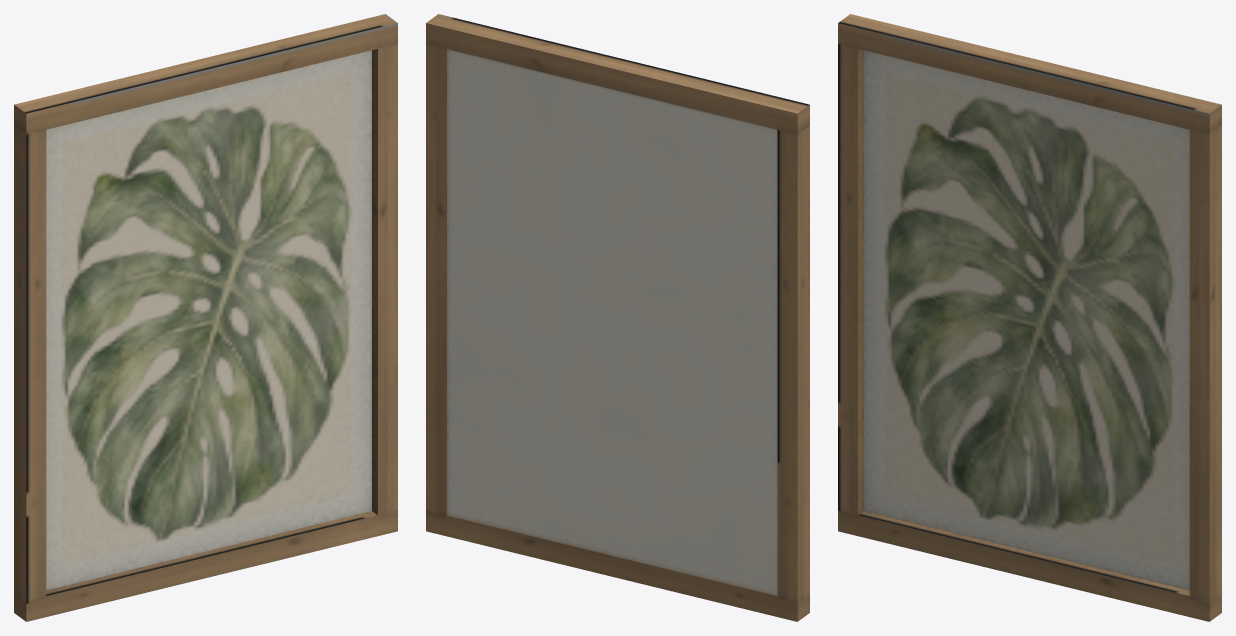
The model's file is H_Frame_Botanical.fbx.
3 renders of one model, left to right at view 1: azimuth 30°, elevation 25°; view 2: azimuth 150°, elevation 25°; view 3: azimuth 330°, elevation 25°, orthographic.
Parts seen in each view (by area): view 1: H_Frame_Botanical; view 2: H_Frame_Botanical; view 3: H_Frame_Botanical.
Boxes of the visible parts, x1=… form: H_Frame_Botanical: x1=14, y1=14, x2=397, y2=621; H_Frame_Botanical: x1=426, y1=14, x2=809, y2=621; H_Frame_Botanical: x1=838, y1=14, x2=1221, y2=621.
Size of the model in its own units: 260 by 340 by 15.
1 material, 1 textured.
